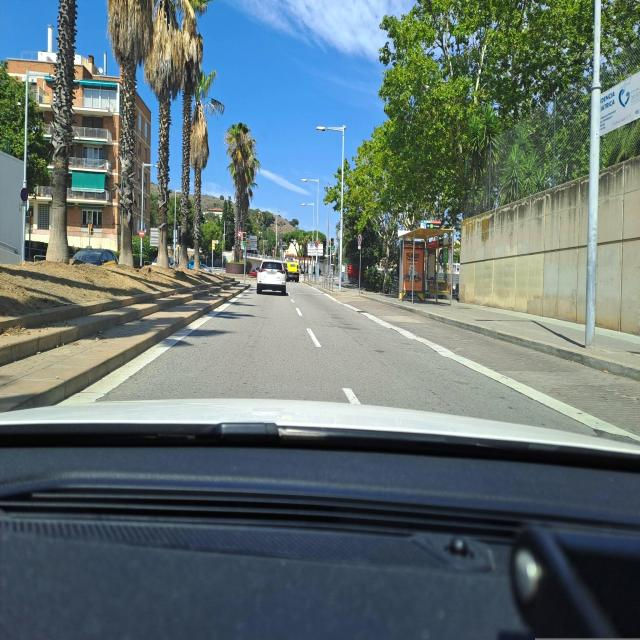car: (256, 260, 287, 296), (70, 248, 120, 265), (286, 262, 300, 282), (168, 256, 178, 267)
